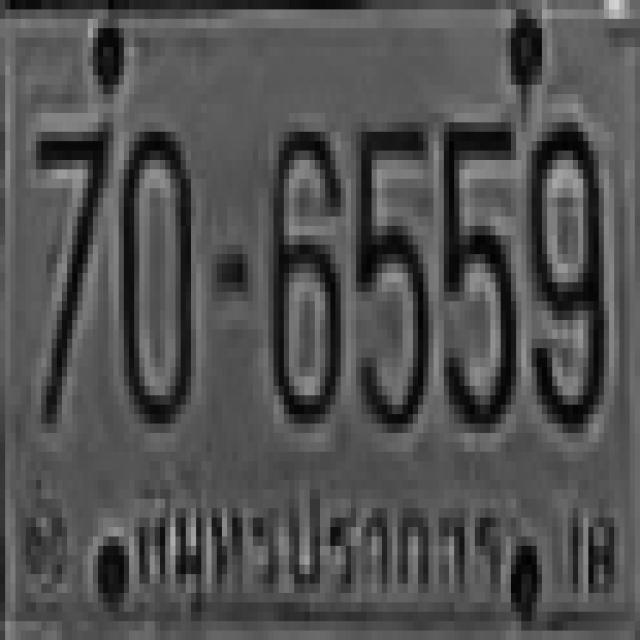0: (119, 127, 191, 419)
5: (439, 113, 511, 423), (351, 113, 423, 423)
6: (266, 122, 338, 414)
7: (31, 118, 108, 418)
9: (524, 113, 601, 423)
SamutPrakan: (132, 488, 506, 611)
